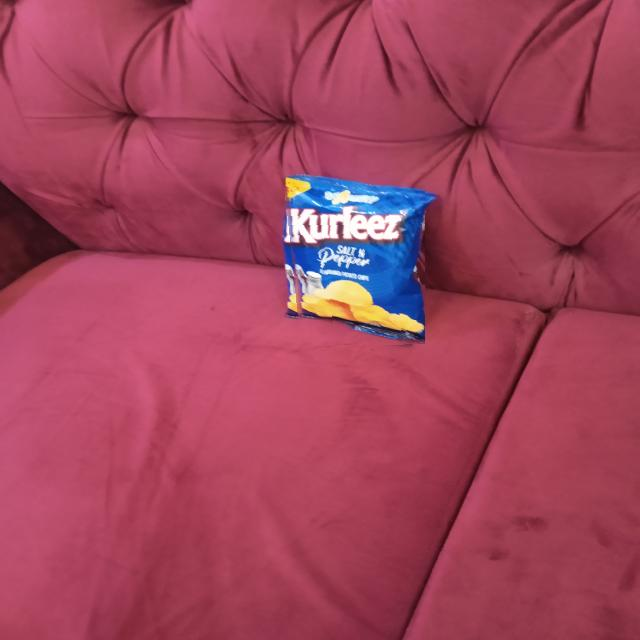Plastic: (283, 172, 425, 346)
